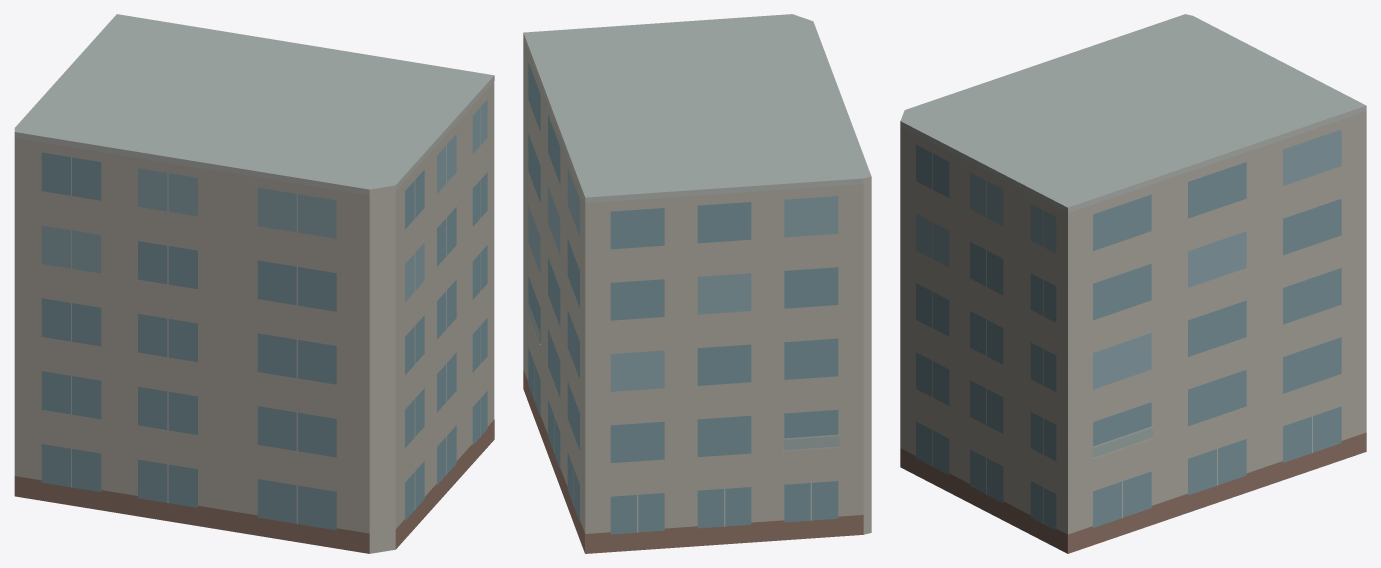
Rendered from survey-upis-32859791.glb.
3 renders of one model, left to right at view 1: azimuth 30°, elevation 25°; view 2: azimuth 150°, elevation 25°; view 3: azimuth 270°, elevation 25°, orthographic. The views are drawn at different scales.
Visible parts, largest first — view 1: survey-upis-32859791.tmp; view 2: survey-upis-32859791.tmp; view 3: survey-upis-32859791.tmp.
Boxes of the visible parts, x1,y1,x2,y2 form: survey-upis-32859791.tmp: (14,14,494,553); survey-upis-32859791.tmp: (523,14,871,553); survey-upis-32859791.tmp: (900,14,1366,553).
Bounding box in the file's own units: 18.31 × 15.25 × 18.62.
